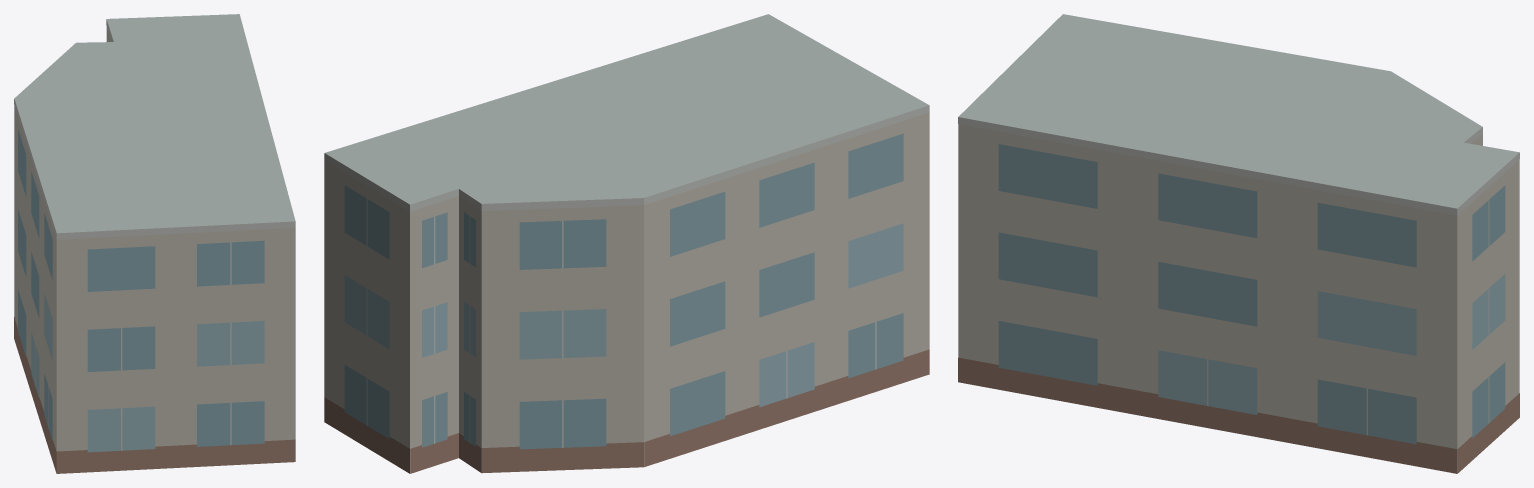
Rendered from survey-upis-32533321.glb.
The picture shows the model from 3 angles, left to right: view 1: azimuth 30°, elevation 25°; view 2: azimuth 150°, elevation 25°; view 3: azimuth 270°, elevation 25°; orthographic projection. The views are drawn at different scales.
Visible parts, largest first — view 1: survey-upis-32533321.tmp; view 2: survey-upis-32533321.tmp; view 3: survey-upis-32533321.tmp.
Part boxes in pixels (x1=…): survey-upis-32533321.tmp: x1=14, y1=14, x2=295, y2=473; survey-upis-32533321.tmp: x1=324, y1=14, x2=929, y2=473; survey-upis-32533321.tmp: x1=958, y1=14, x2=1519, y2=473.
Bounding box in the file's own units: 14.41 × 9.15 × 17.57.
